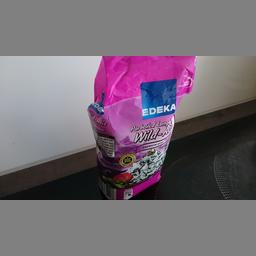rice: (86, 54, 196, 198)
